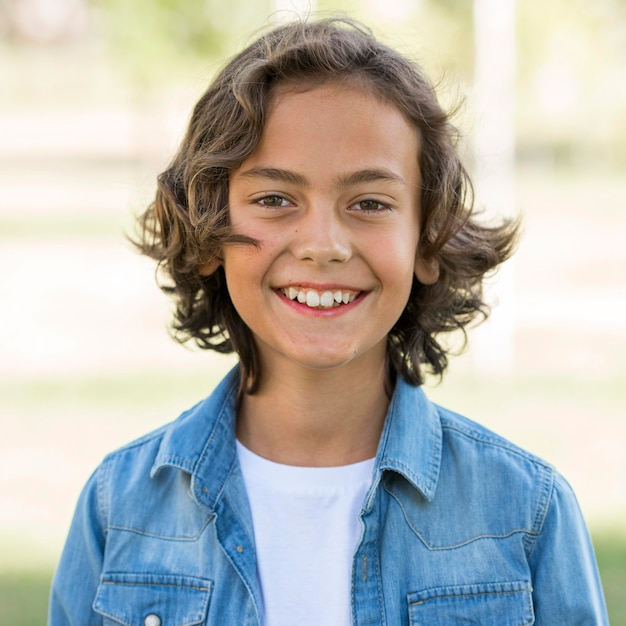teen: (107, 12, 544, 409)
